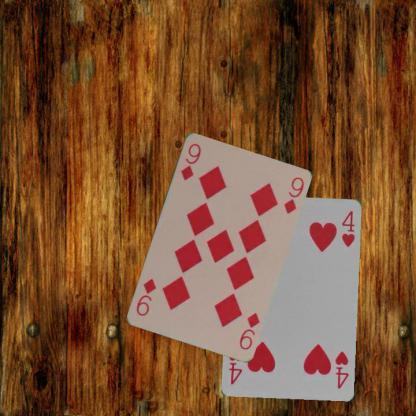4h: (332, 348, 350, 390)
9d: (236, 309, 261, 351), (178, 140, 202, 182)
